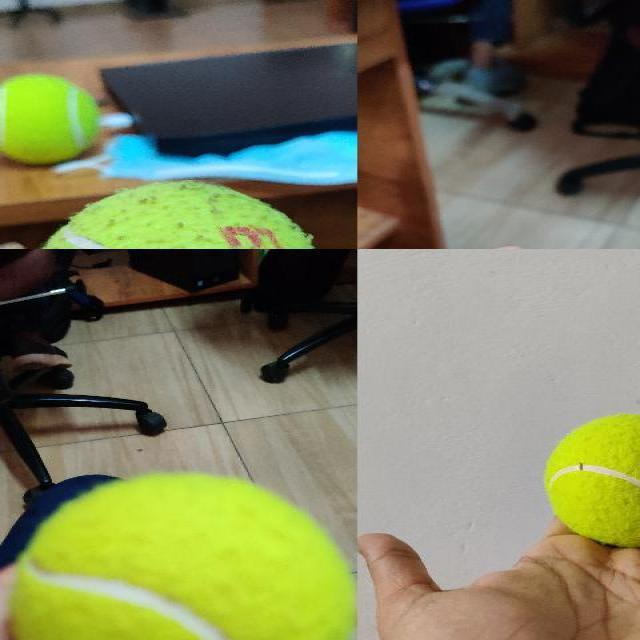tennis-ball: (14, 474, 354, 639), (32, 182, 322, 248), (545, 413, 639, 547), (0, 73, 101, 163)
